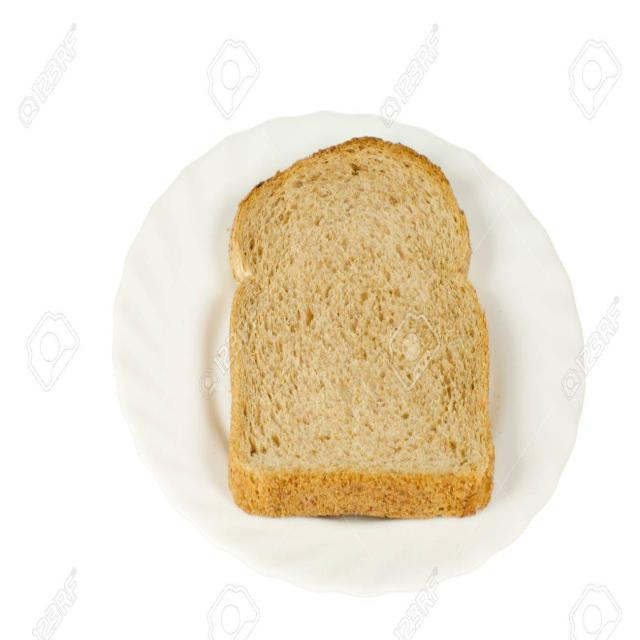Bread: (229, 137, 494, 518)
